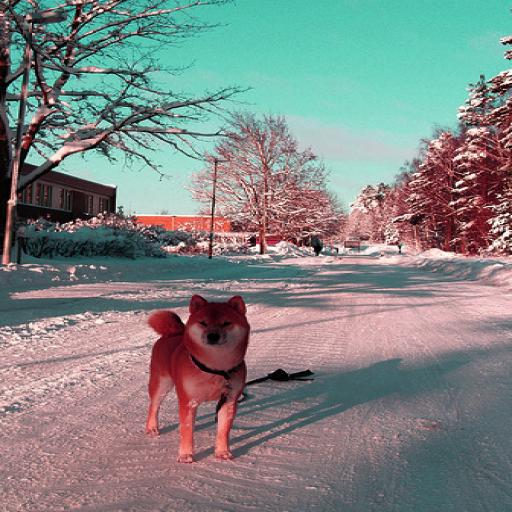dog_face: (184, 290, 250, 351)
